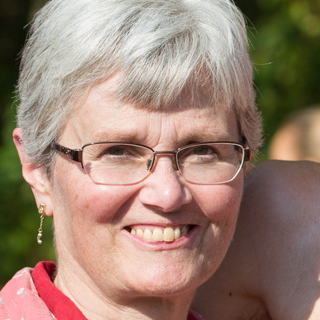eye: (177, 142, 223, 165), (96, 141, 143, 163)
